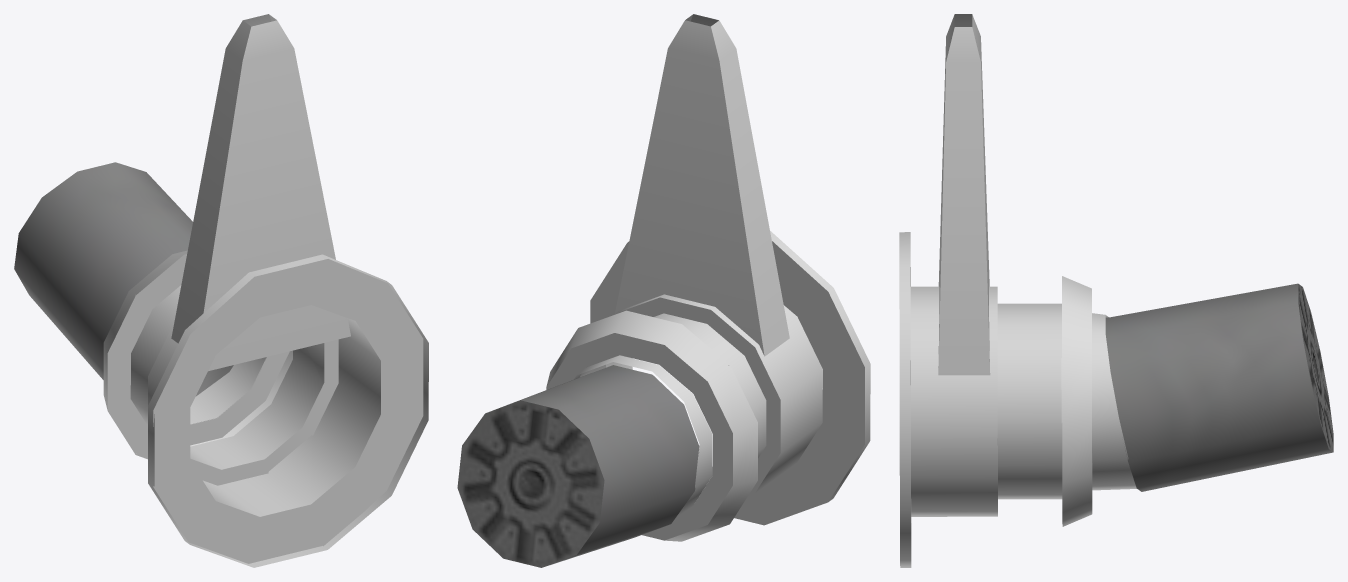
Rendered from rocker_left_link.dae.
The picture shows the model from 3 angles, left to right: view 1: azimuth 30°, elevation 25°; view 2: azimuth 150°, elevation 25°; view 3: azimuth 270°, elevation 25°; orthographic projection. The views are drawn at different scales.
Visible parts, largest first — view 1: rocker_left_link; view 2: rocker_left_link; view 3: rocker_left_link.
Boxes of the visible parts, x1=… form: rocker_left_link: x1=14, y1=14, x2=428, y2=567; rocker_left_link: x1=457, y1=14, x2=870, y2=567; rocker_left_link: x1=899, y1=14, x2=1333, y2=567.
Size of the model in its own units: 0.2032 by 0.2706 by 0.3639.
2 materials, 1 textured.
